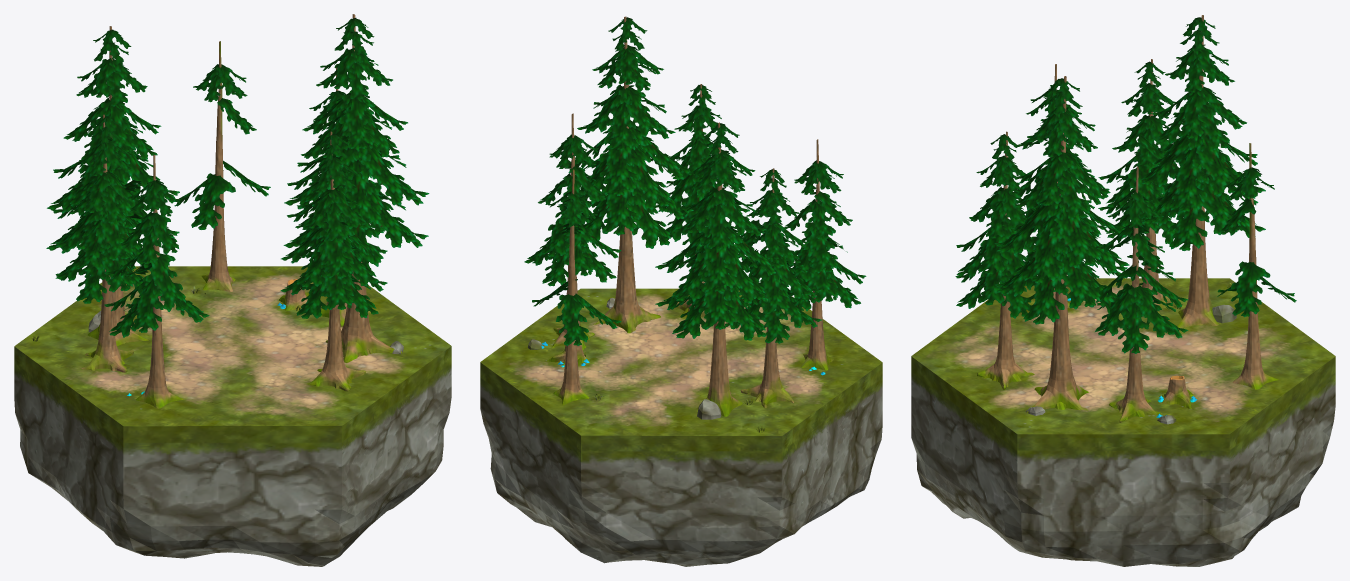
File: forestChunk.glb
The picture shows the model from 3 angles, left to right: view 1: azimuth 30°, elevation 25°; view 2: azimuth 150°, elevation 25°; view 3: azimuth 270°, elevation 25°; orthographic projection. The views are drawn at different scales.
Parts seen in each view (by area): view 1: Bosque; view 2: Bosque; view 3: Bosque.
Part boxes in pixels (box(x1,y1,x2,y2)): Bosque: box(14, 14, 451, 566); Bosque: box(480, 16, 882, 566); Bosque: box(911, 15, 1335, 566).
Bounding box in the file's own units: 1 × 1.47 × 1.15.
Materials: 1 (1 with a texture image).
